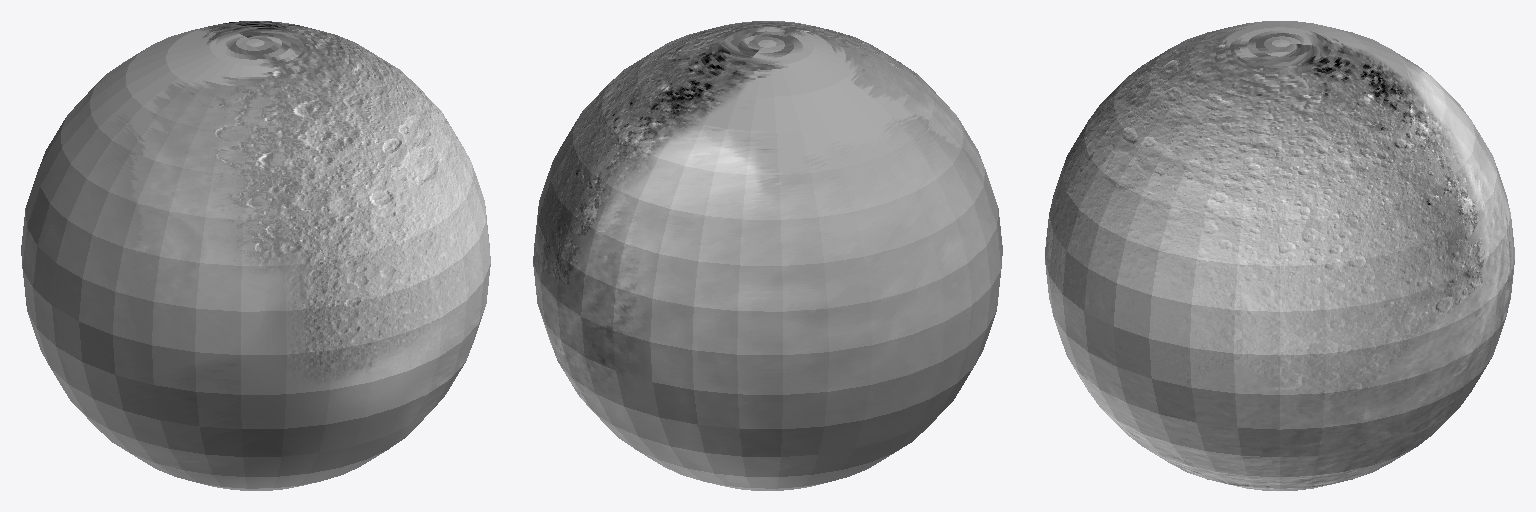
The picture shows the model from 3 angles: view 1: azimuth 30°, elevation 25°; view 2: azimuth 150°, elevation 25°; view 3: azimuth 270°, elevation 25°; orthographic projection.
Visible parts, largest first — view 1: Sphere_Sphere.007; view 2: Sphere_Sphere.007; view 3: Sphere_Sphere.007.
Part boxes in pixels (bbox=[...]): Sphere_Sphere.007: bbox=[21, 21, 490, 490]; Sphere_Sphere.007: bbox=[533, 21, 1002, 490]; Sphere_Sphere.007: bbox=[1045, 21, 1514, 490].
Bounding box in the file's own units: 2 × 2 × 2.
Materials: 1 (1 with a texture image).